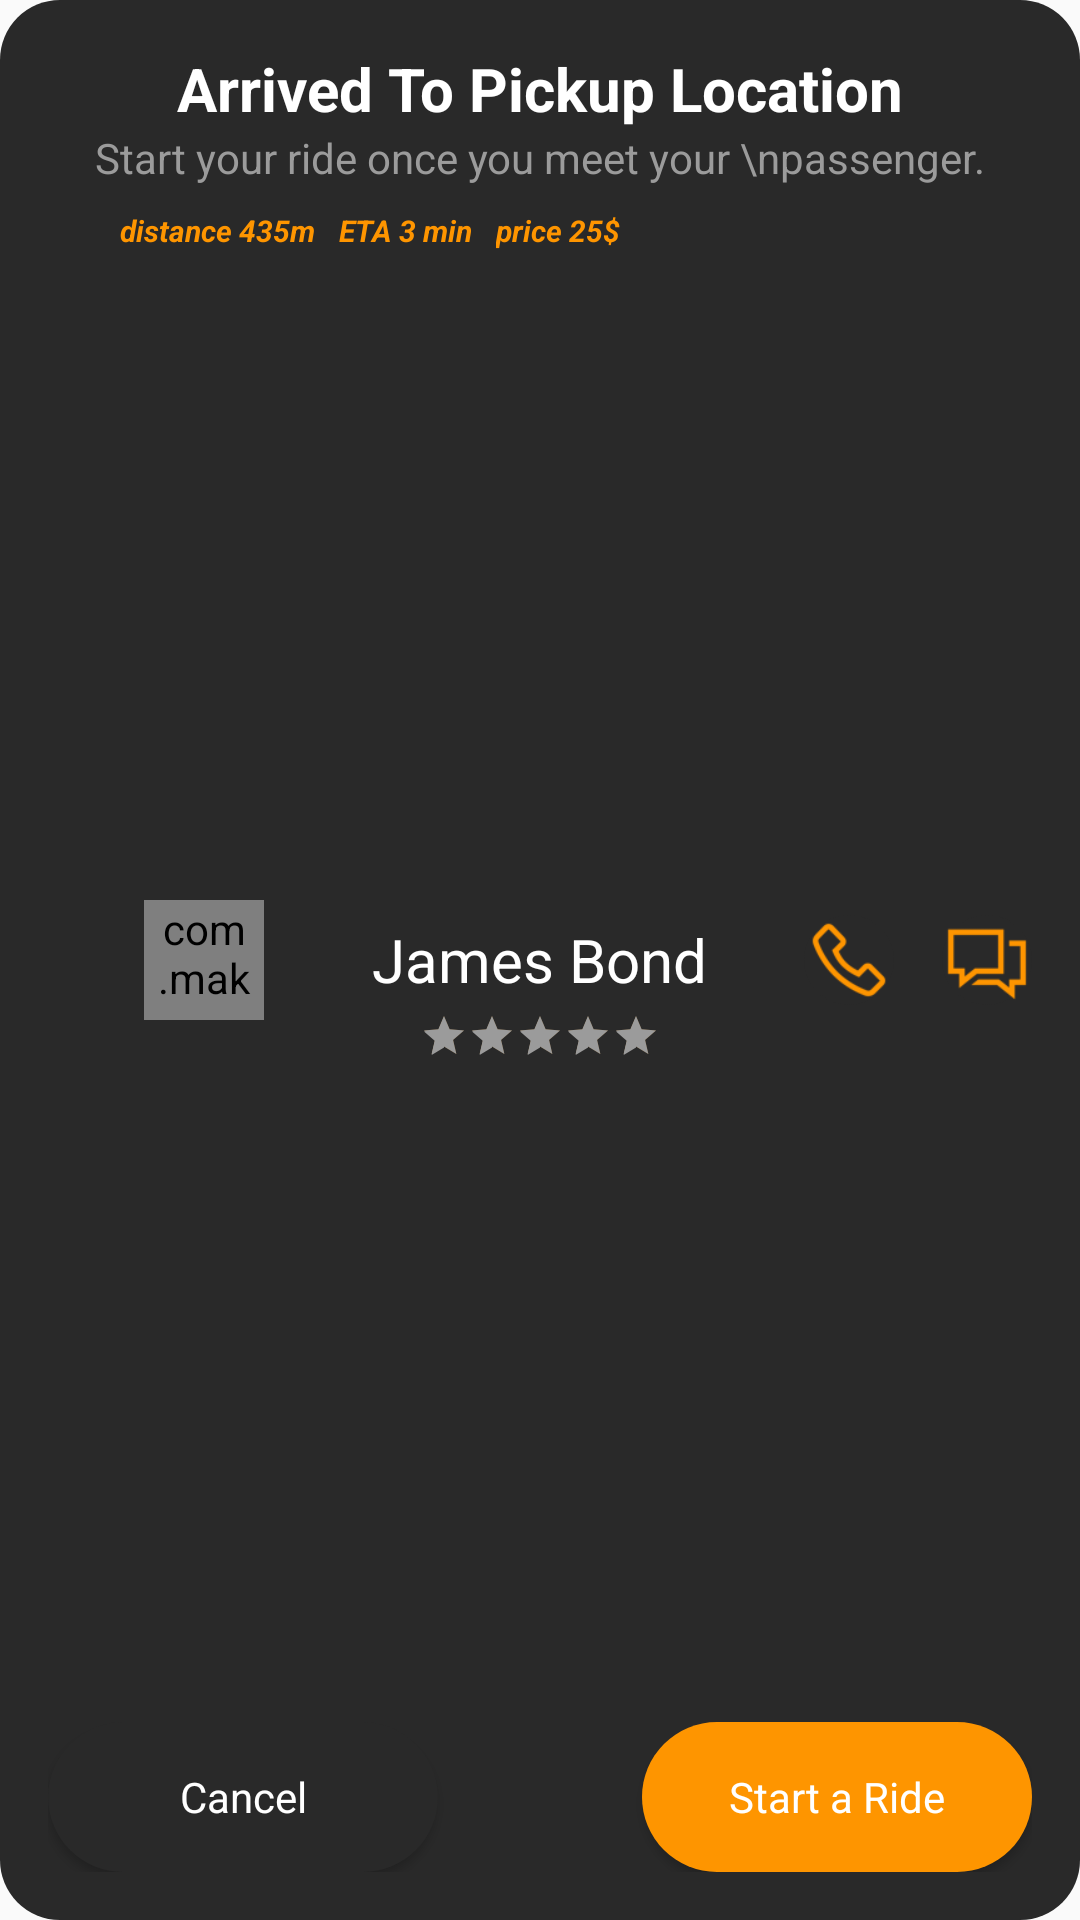

Point at icon controls on the screen. Image size 1080×1920, points as (x,y).
call: (849,960)
chat: (987,963)
